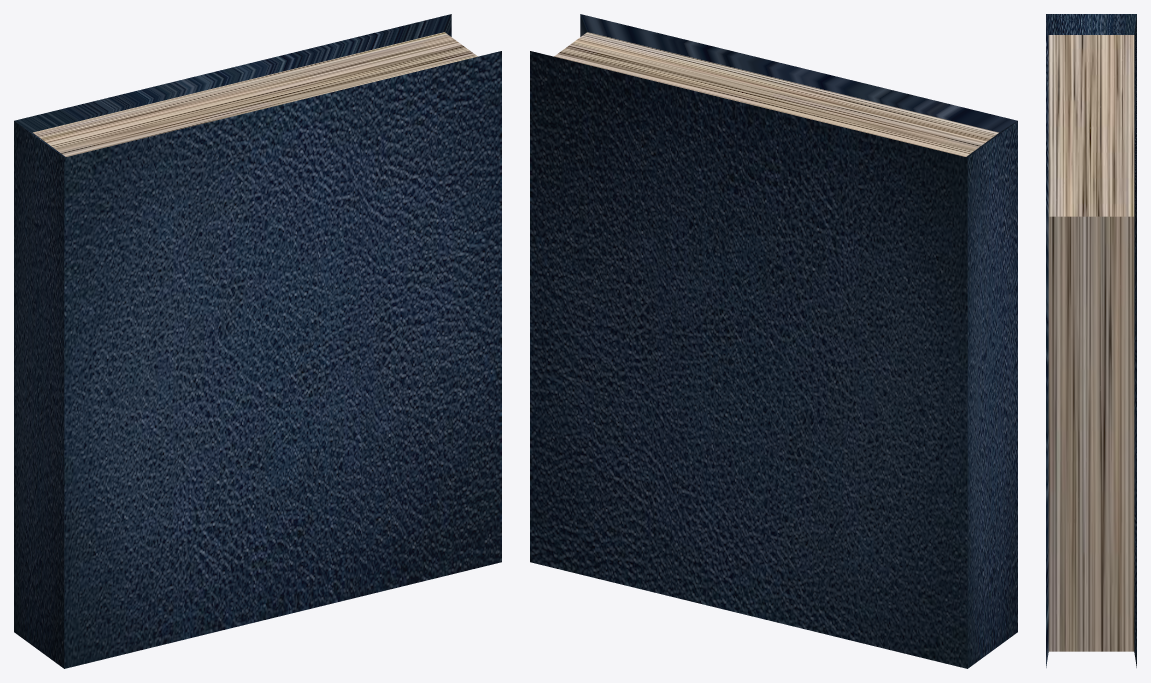
File: Libro.obj
3 views of the same model, side by side, from view 1: azimuth 30°, elevation 25°; view 2: azimuth 150°, elevation 25°; view 3: azimuth 270°, elevation 25° (orthographic). The views are drawn at different scales.
Visible parts, largest first — view 1: Libro_Anim_Cube.113_libro_azul, Libro_Anim_Cube.113_Papel; view 2: Libro_Anim_Cube.113_libro_azul, Libro_Anim_Cube.113_Papel; view 3: Libro_Anim_Cube.113_Papel, Libro_Anim_Cube.113_libro_azul.
Boxes of the visible parts, left/top/right/bottom form: Libro_Anim_Cube.113_libro_azul: left=14, top=14, right=501, bottom=668; Libro_Anim_Cube.113_Papel: left=33, top=32, right=477, bottom=156; Libro_Anim_Cube.113_libro_azul: left=530, top=14, right=1017, bottom=668; Libro_Anim_Cube.113_Papel: left=554, top=32, right=998, bottom=156; Libro_Anim_Cube.113_Papel: left=1048, top=35, right=1134, bottom=651; Libro_Anim_Cube.113_libro_azul: left=1046, top=14, right=1136, bottom=667.
Size of the model in its own units: 0.2663 by 0.2974 by 0.053.
